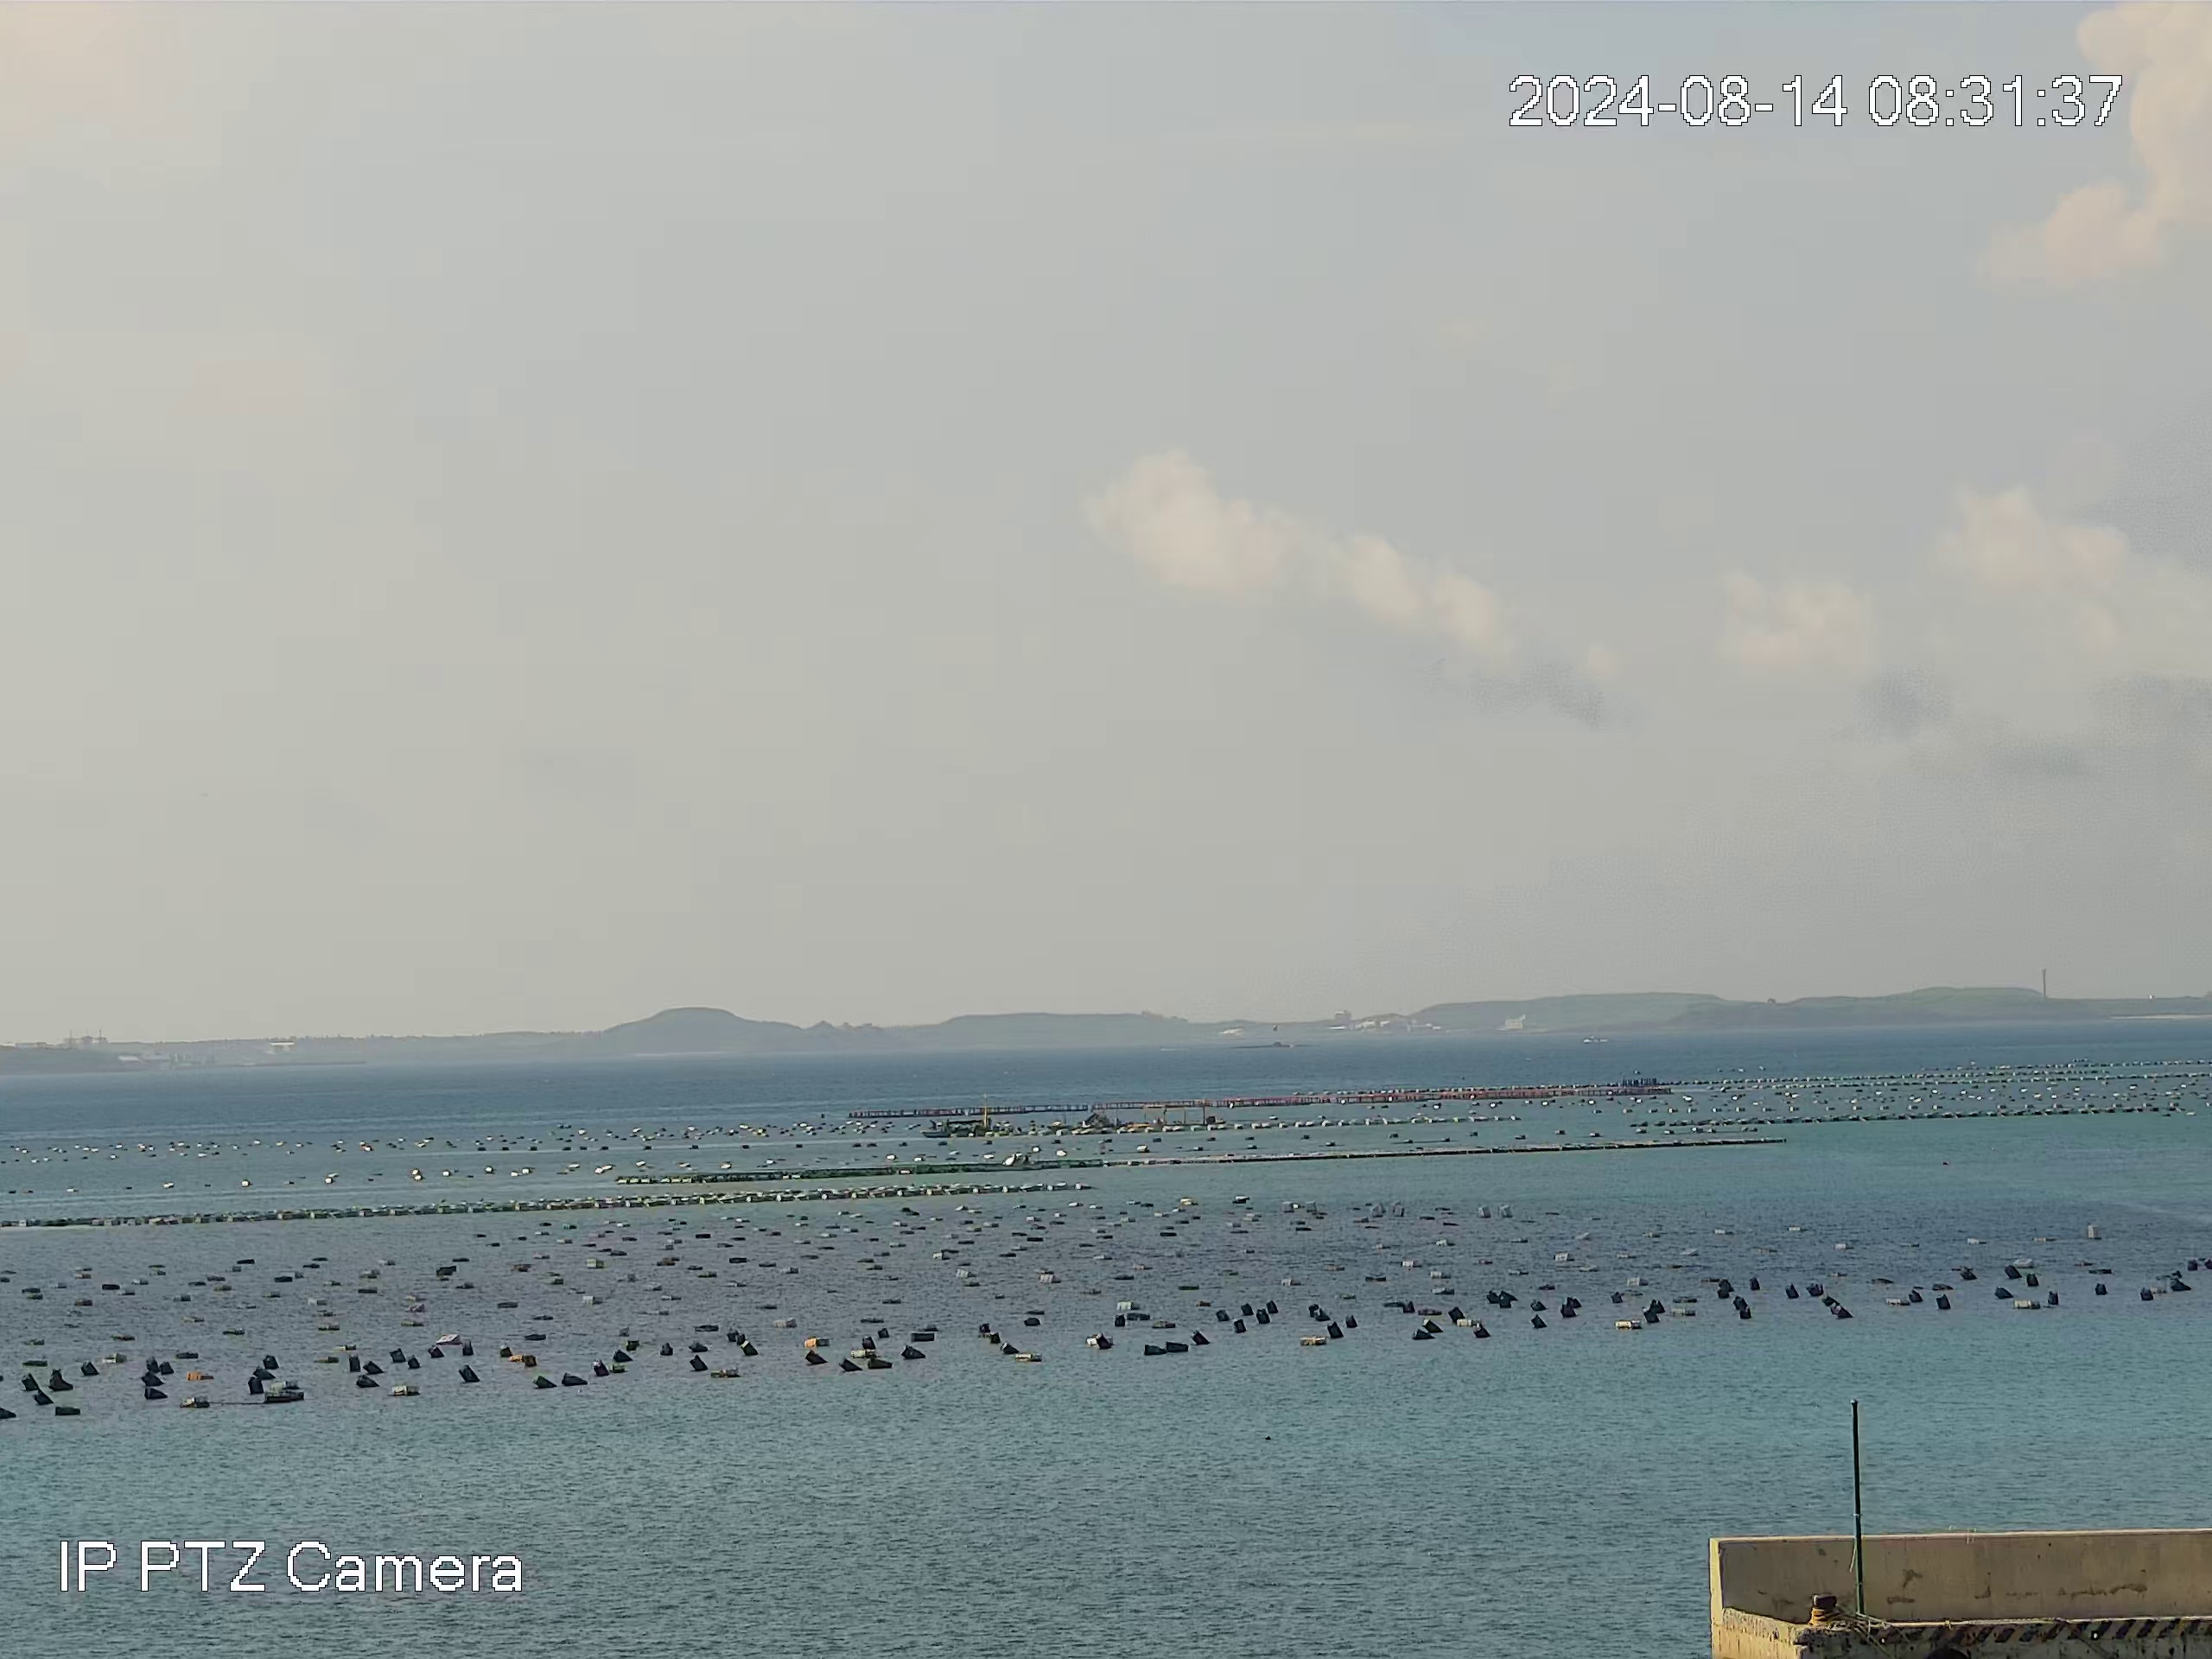boat: (921, 1114, 988, 1141)
